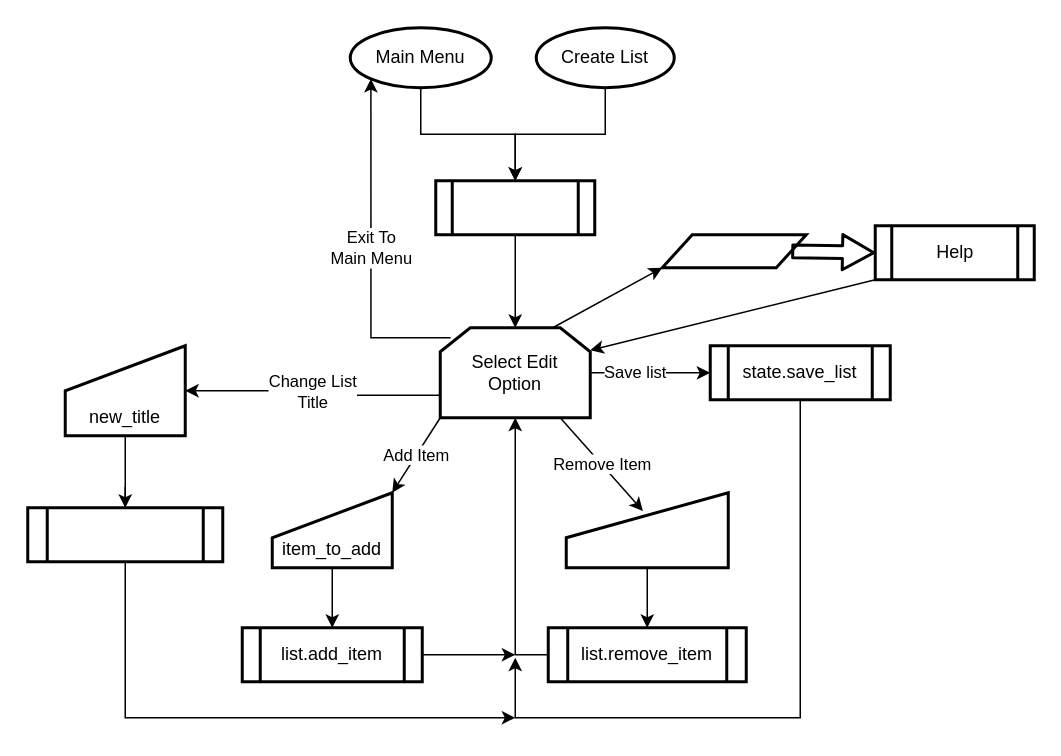
Image size: 1061x756. Some labels were removed from this diagram. Each missing label, with the centre of its shape:
"edit": (733,250)
item_to_remove: (646,529)
list.change_title: (125,534)
Load List: (515,207)
